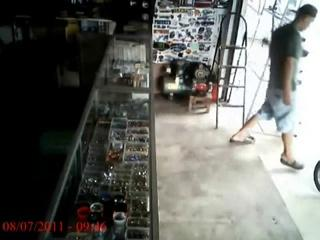Normal: (230, 4, 318, 170)
